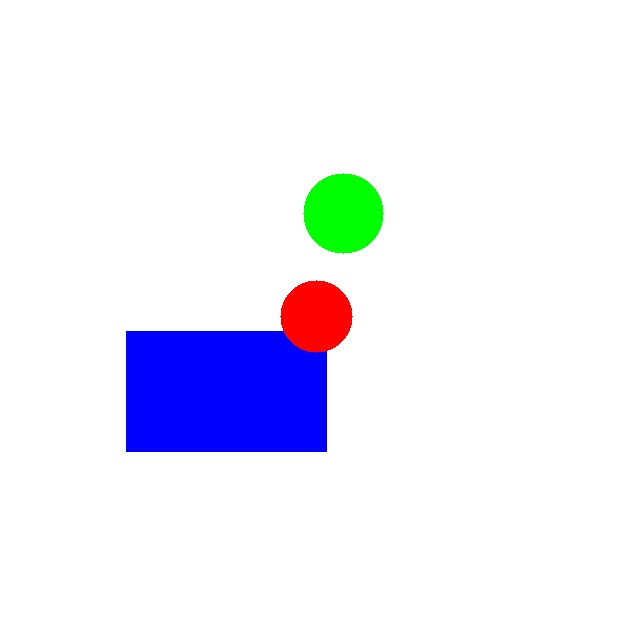cartao: (126, 331, 326, 451)
rosca_externa: (303, 173, 383, 253)
rosca_interna: (280, 280, 352, 352)
